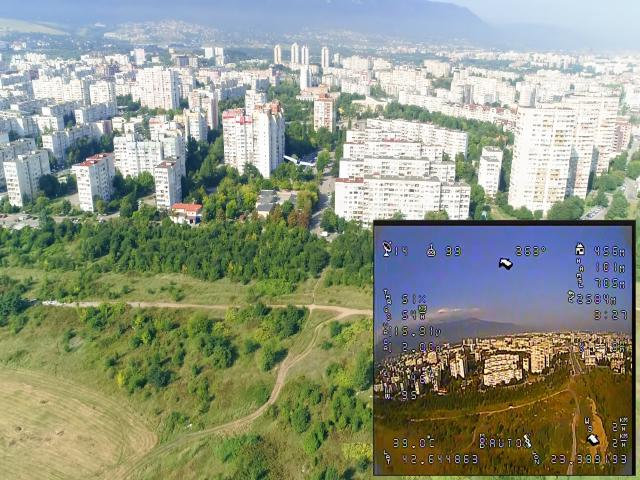plane: (283, 155, 316, 170)
